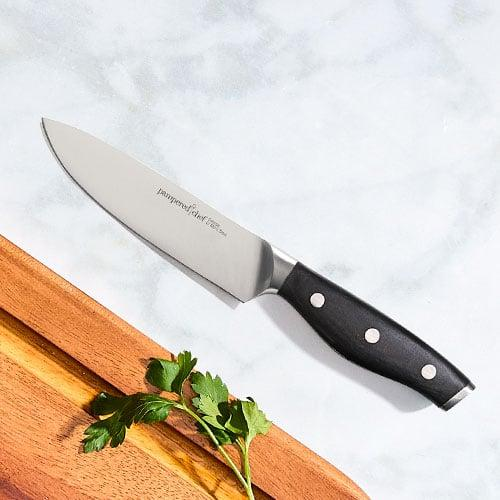Knife: (41, 115, 477, 415)
